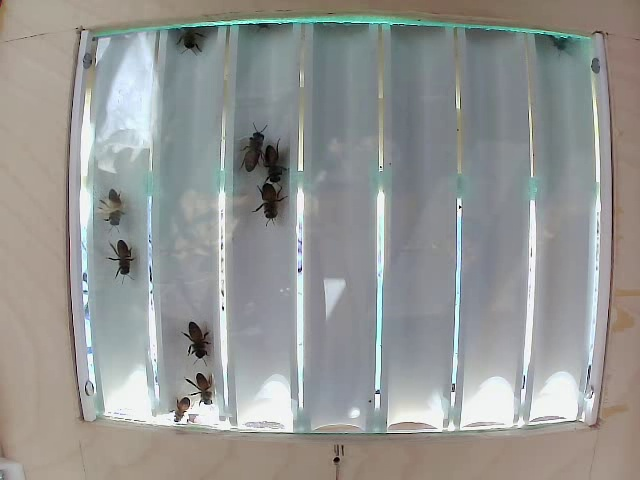bee: (244, 177, 293, 226), (168, 308, 211, 360), (97, 181, 134, 241), (109, 237, 145, 298), (235, 122, 272, 177), (181, 362, 215, 409), (258, 143, 289, 186)
